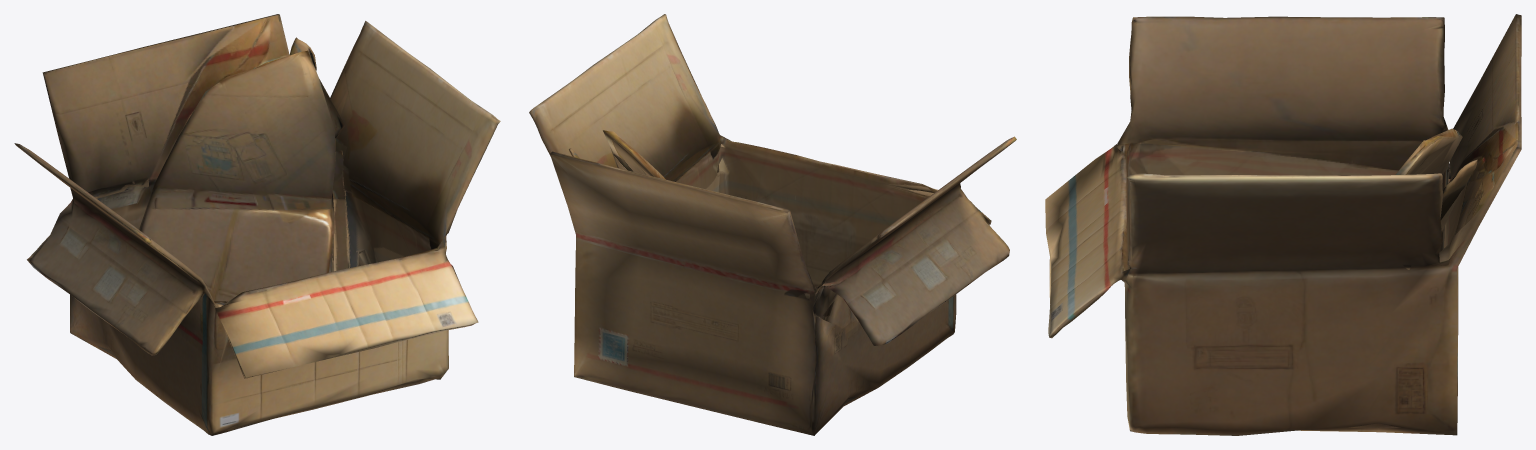
Rendered from CardboardBoxParcelModel.fbx.
The picture shows the model from 3 angles, left to right: view 1: azimuth 30°, elevation 25°; view 2: azimuth 150°, elevation 25°; view 3: azimuth 270°, elevation 25°; orthographic projection. The views are drawn at different scales.
Parts seen in each view (by area): view 1: Mesh1_Mesh1.002; view 2: Mesh1_Mesh1.002; view 3: Mesh1_Mesh1.002.
Part boxes in pixels (<box>): Mesh1_Mesh1.002: <box>14,14,500,435</box>; Mesh1_Mesh1.002: <box>529,14,1016,435</box>; Mesh1_Mesh1.002: <box>1045,14,1521,435</box>.
Bounding box in the file's own units: 199 × 134 × 199.
Materials: 1 (1 with a texture image).
